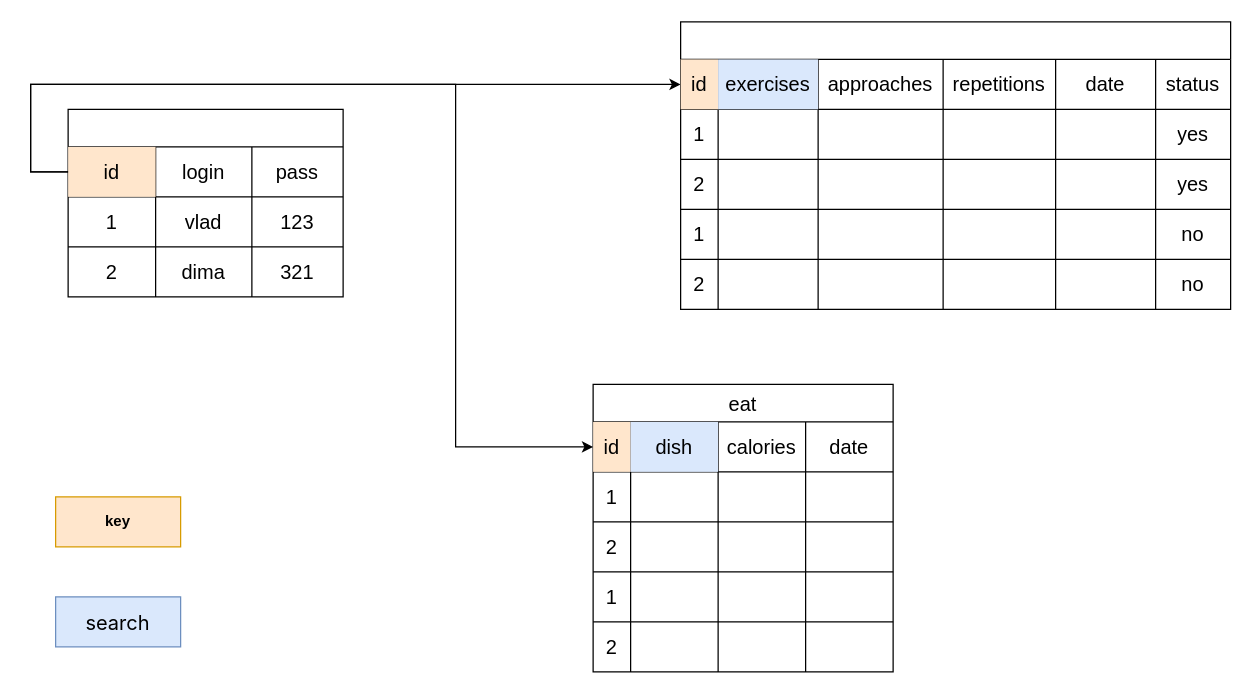
Image size: 1253x694. Some labels were removed from this diagram. The shapes that lost their labels are listed below. From the top down, each one's box as (x1, y1, x2, y2) in pixels, then its label:
(679, 21, 1231, 309): trainings
(67, 108, 343, 297): account
